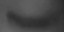RightEyeFatigue: (5, 7, 60, 32)
